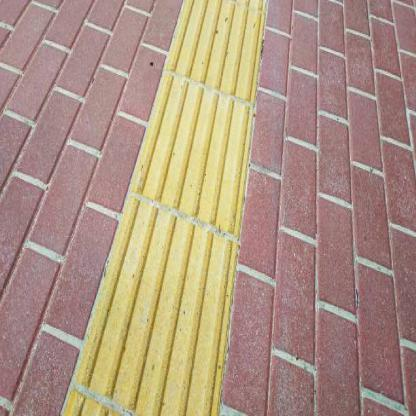podotacti: (63, 0, 268, 414)
